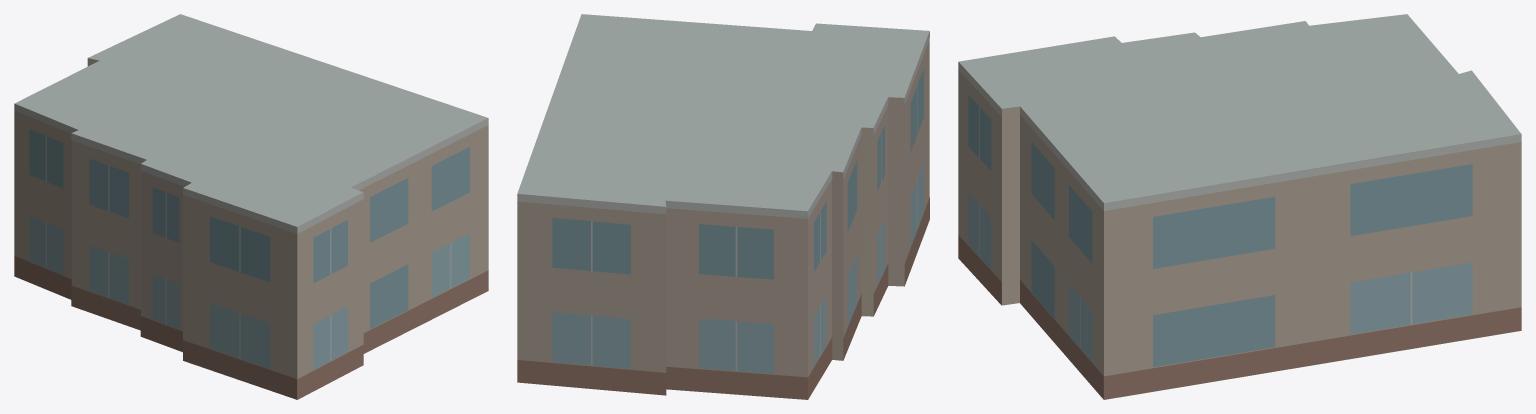
Rendered from survey-upis-32523309.glb.
The picture shows the model from 3 angles, left to right: view 1: azimuth 30°, elevation 25°; view 2: azimuth 150°, elevation 25°; view 3: azimuth 270°, elevation 25°; orthographic projection. The views are drawn at different scales.
Visible parts, largest first — view 1: survey-upis-32523309.tmp; view 2: survey-upis-32523309.tmp; view 3: survey-upis-32523309.tmp.
Part boxes in pixels (bbox=[...]): survey-upis-32523309.tmp: bbox=[14, 14, 488, 399]; survey-upis-32523309.tmp: bbox=[517, 14, 929, 399]; survey-upis-32523309.tmp: bbox=[958, 14, 1521, 399].
Bounding box in the file's own units: 12.6 × 6.1 × 15.84.
